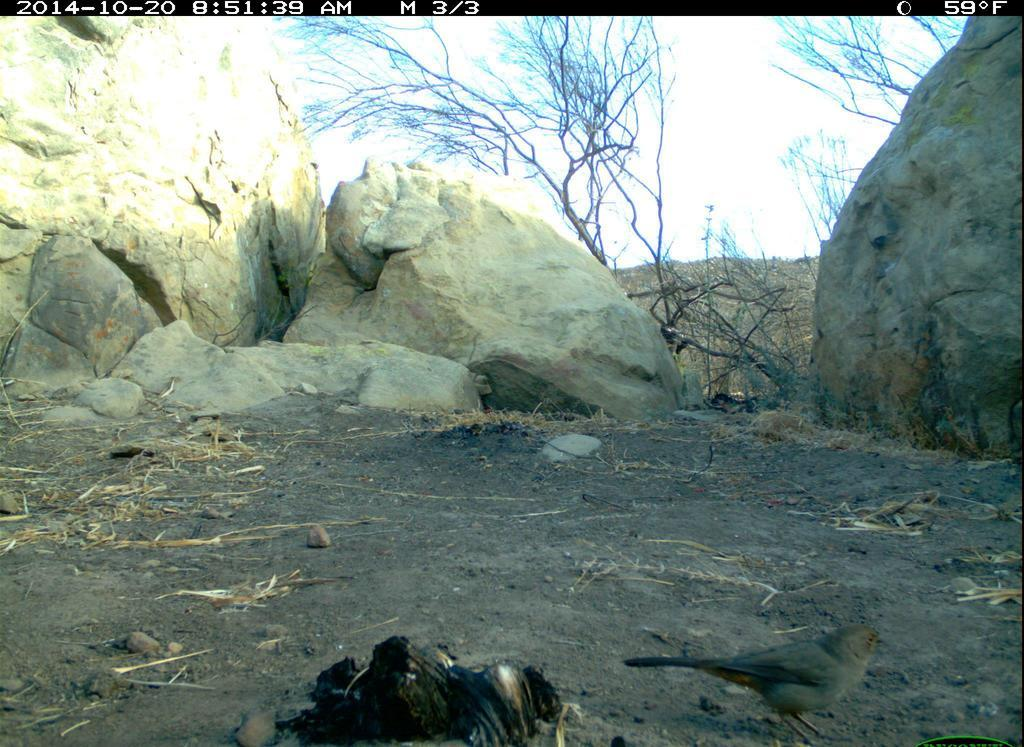bird: (616, 611, 908, 745)
